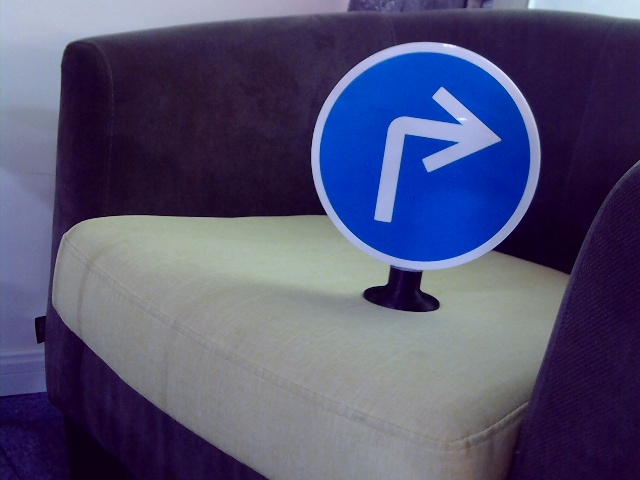turn_right: (367, 82, 498, 230)
